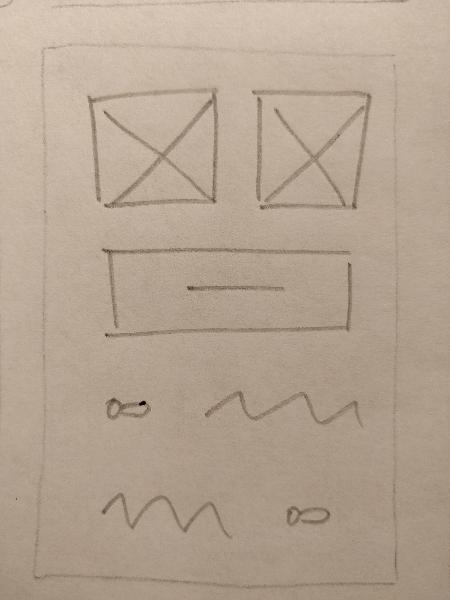button: (91, 238, 364, 341)
image: (76, 80, 226, 210), (245, 80, 374, 215)
switch: (272, 495, 341, 536), (98, 386, 160, 428)
text: (194, 373, 376, 435), (93, 484, 240, 547)
